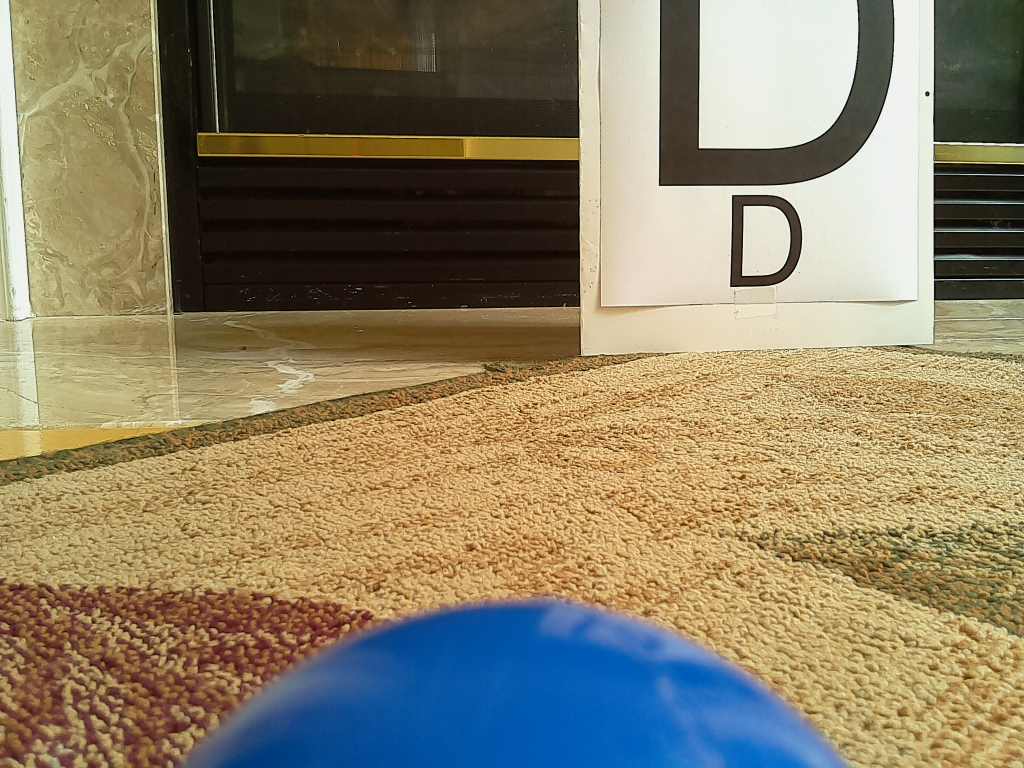letter: (732, 196, 803, 289)
